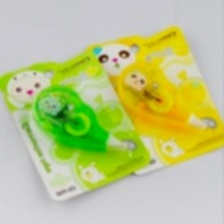book: (0, 46, 152, 203), (83, 22, 223, 177)
correction_fluid: (115, 58, 214, 134), (31, 84, 134, 155)
